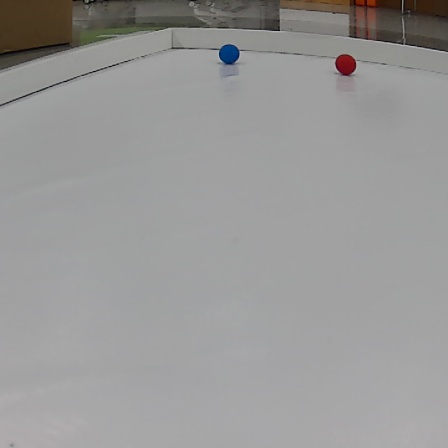blue: (220, 43, 241, 66)
red: (334, 52, 359, 76)
